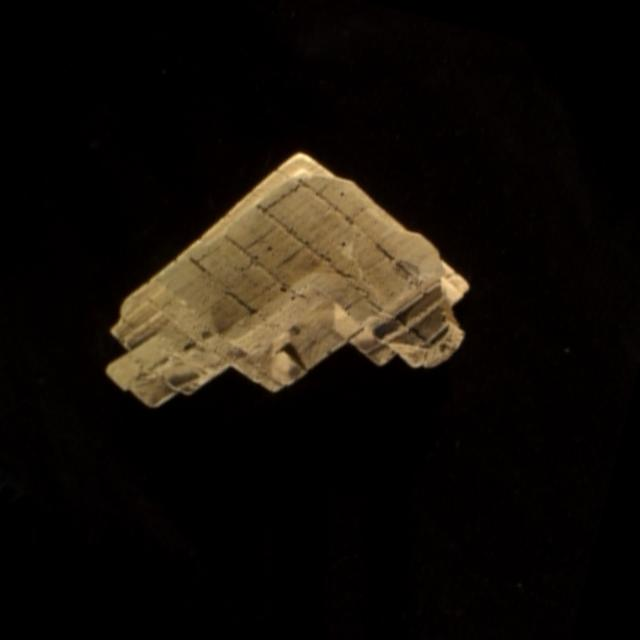Instance-Segmentation: (104, 153, 465, 405)
